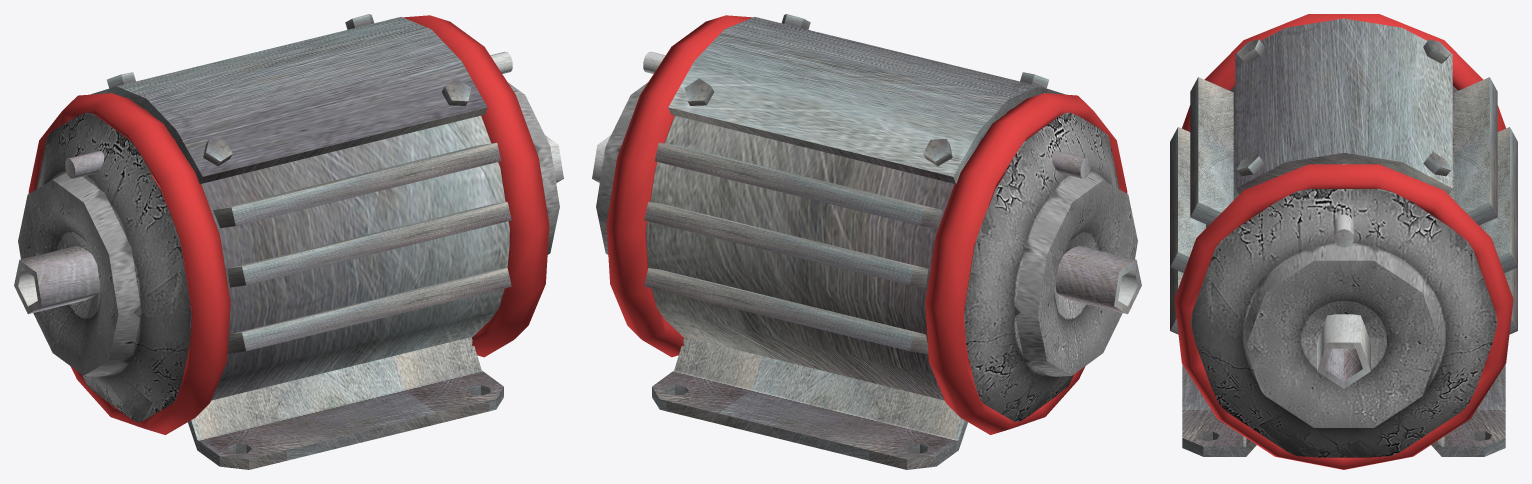
The model's file is static.glb.
3 views of the same model, side by side, from view 1: azimuth 30°, elevation 25°; view 2: azimuth 150°, elevation 25°; view 3: azimuth 270°, elevation 25° (orthographic). The views are drawn at different scales.
Visible parts, largest first — view 1: Cylinder, Disc, Sweep, Torus, Cube, Cube_2, Cube_3, Cube_4, Tube, Cylinder_2, Cylinder_1; view 2: Cylinder, Disc, Sweep, Torus, Cube, Cube_2, Cube_3, Cube_4, Tube, Cylinder_2, Cylinder_1; view 3: Disc, Sweep, Torus, Cube_2, Cube_3, Cube, Tube, Cylinder_2, Cube_4, Cylinder, Cylinder_1, Cylinder_3.
Boxes of the visible parts, left/top/right/bottom form: Cylinder: left=146, top=110, right=509, bottom=400; Disc: left=18, top=82, right=559, bottom=421; Sweep: left=90, top=17, right=487, bottom=183; Torus: left=28, top=15, right=549, bottom=434; Cube: left=188, top=337, right=503, bottom=469; Cube_2: left=213, top=142, right=501, bottom=228; Cube_3: left=227, top=202, right=511, bottom=287; Cube_4: left=227, top=268, right=511, bottom=353; Tube: left=14, top=135, right=563, bottom=314; Cylinder_2: left=107, top=14, right=471, bottom=166; Cylinder_1: left=65, top=51, right=512, bottom=178; Cylinder: left=646, top=110, right=1009, bottom=400; Disc: left=596, top=82, right=1137, bottom=421; Sweep: left=668, top=17, right=1065, bottom=183; Torus: left=606, top=15, right=1127, bottom=434; Cube: left=652, top=337, right=967, bottom=469; Cube_2: left=654, top=142, right=942, bottom=228; Cube_3: left=644, top=202, right=928, bottom=287; Cube_4: left=644, top=268, right=928, bottom=353; Tube: left=592, top=135, right=1141, bottom=314; Cylinder_2: left=684, top=14, right=1048, bottom=166; Cylinder_1: left=643, top=51, right=1090, bottom=178; Disc: left=1190, top=189, right=1497, bottom=457; Sweep: left=1235, top=18, right=1452, bottom=194; Torus: left=1174, top=14, right=1513, bottom=469; Cube_2: left=1190, top=77, right=1497, bottom=225; Cube_3: left=1170, top=127, right=1517, bottom=272; Cube: left=1182, top=364, right=1505, bottom=456; Tube: left=1317, top=314, right=1370, bottom=388; Cylinder_2: left=1237, top=39, right=1450, bottom=176; Cube_4: left=1170, top=267, right=1517, bottom=334; Cylinder: left=1206, top=86, right=1481, bottom=227; Cylinder_1: left=1334, top=214, right=1353, bottom=247; Cylinder_3: left=1196, top=431, right=1491, bottom=440.
Bounding box in the file's own units: 0.9508 × 0.5568 × 0.5679.
4 materials, 4 textured.
